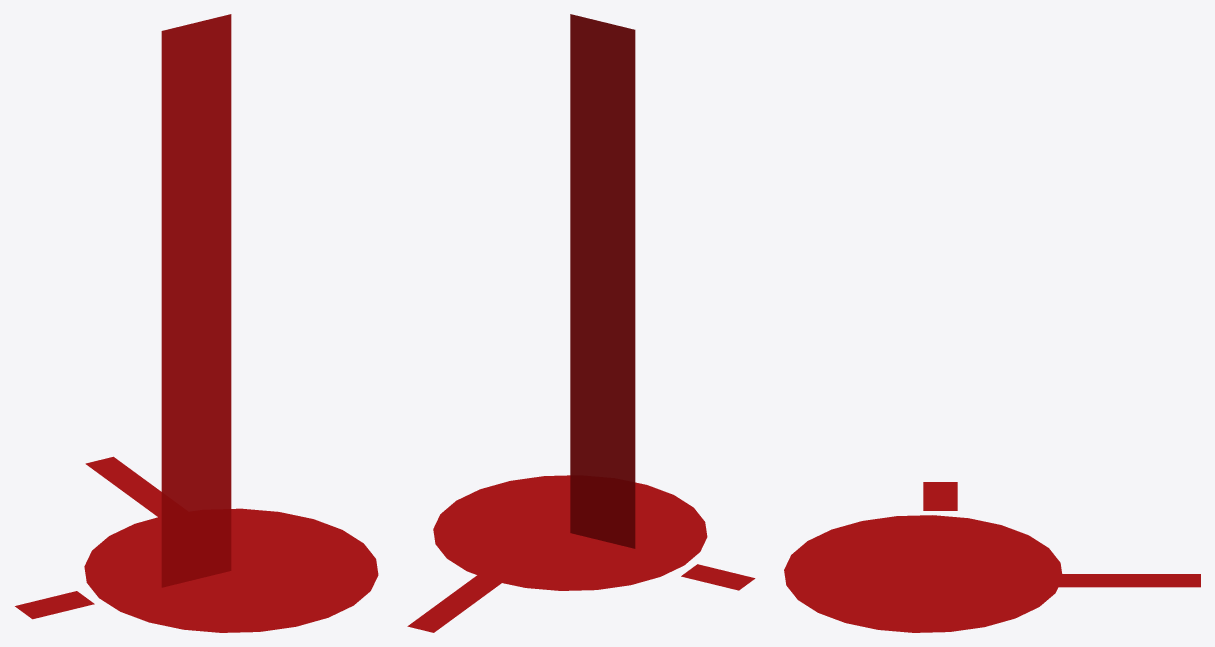
File: improCircle5.dae
3 views of the same model, side by side, from view 1: azimuth 30°, elevation 25°; view 2: azimuth 150°, elevation 25°; view 3: azimuth 270°, elevation 25° (orthographic). The views are drawn at different scales.
Parts seen in each view (by area): view 1: SketchUp (×3); view 2: SketchUp (×3); view 3: SketchUp (×2).
Boxes of the visible parts, x1,y1,x2,y2 form: SketchUp (×3): [15, 14, 378, 632]; SketchUp (×3): [407, 14, 755, 632]; SketchUp (×2): [784, 482, 1200, 632].
Size of the model in its own units: 144 by 168 by 235.
